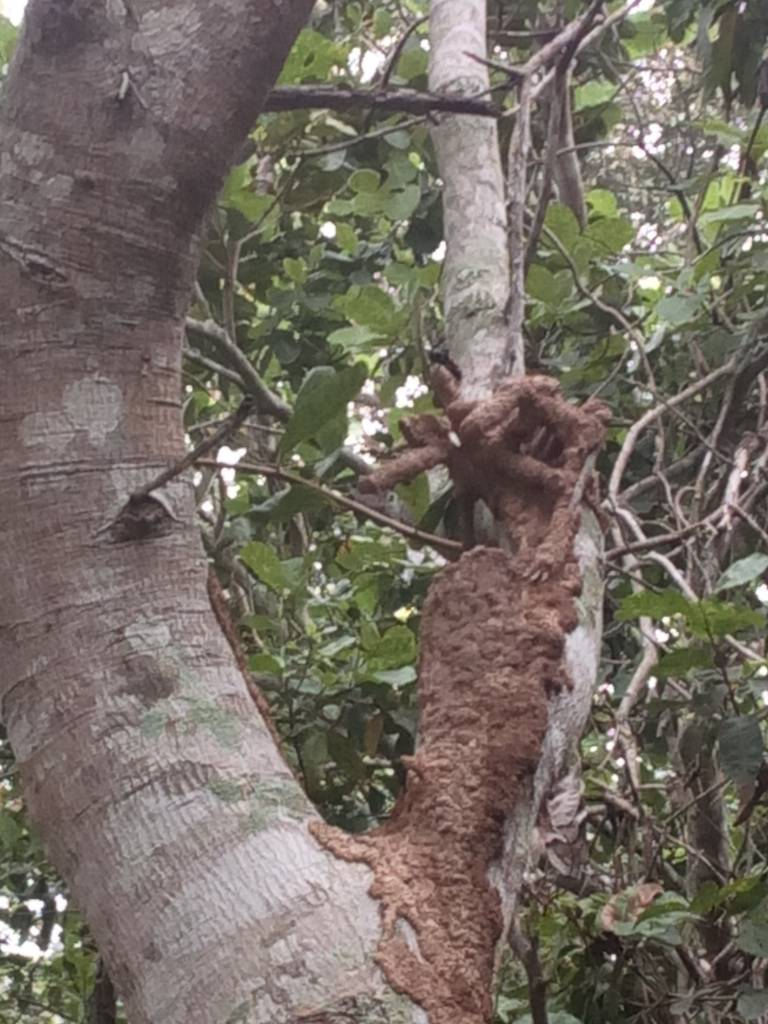Termites: (452, 382, 574, 746), (397, 752, 505, 1017)
